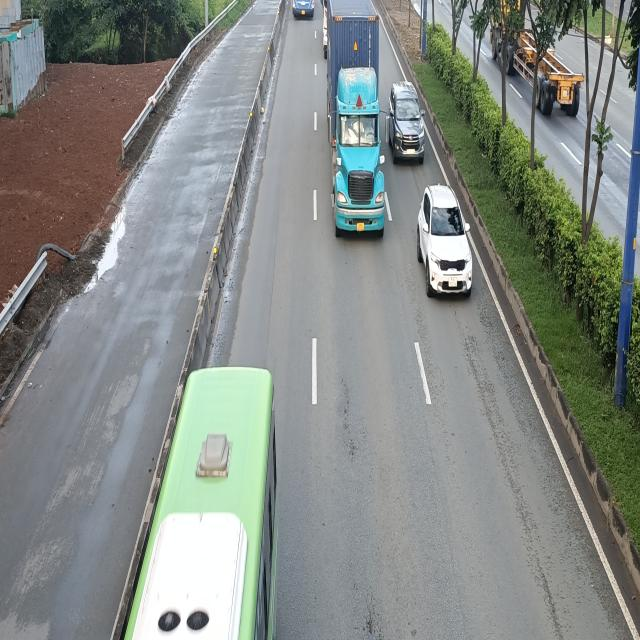car: (417, 183, 470, 299), (390, 81, 428, 166)
coach: (113, 365, 283, 640)
container: (326, 1, 387, 238)
